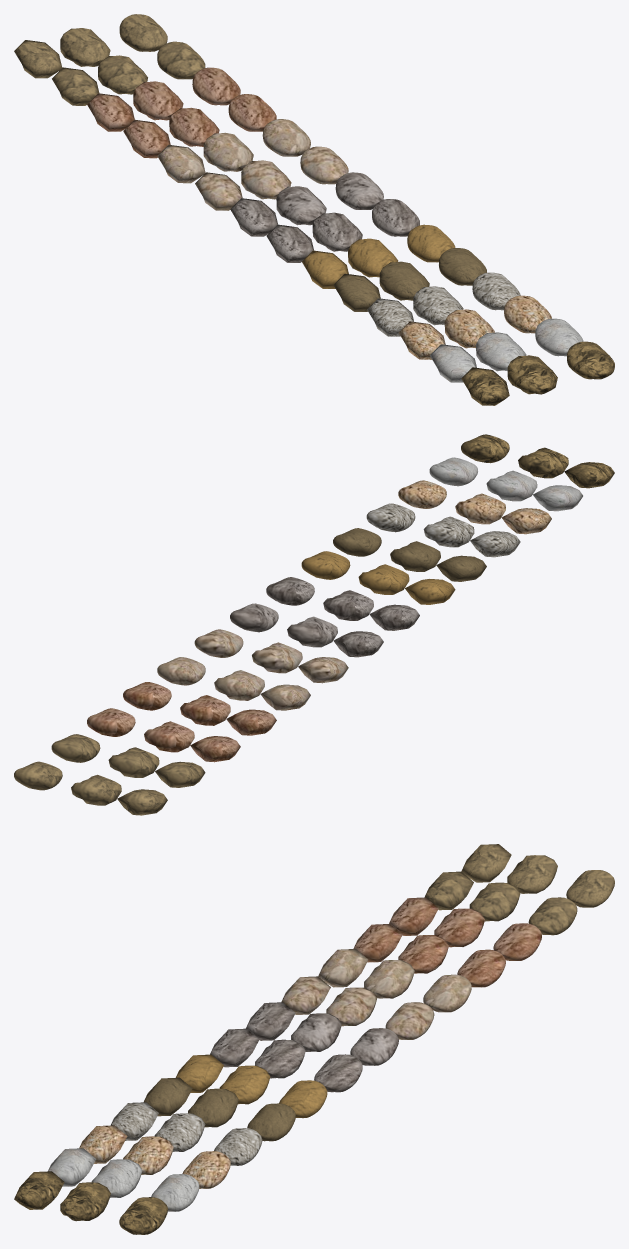
File: Rock_V1.fbx
3 views of the same model, one above another, from view 1: azimuth 30°, elevation 25°; view 2: azimuth 150°, elevation 25°; view 3: azimuth 330°, elevation 25° (orthographic).
Parts seen in each view (by area): view 1: Rock_01_Mid_13, Rock_01_Mid_8, Rock_01_Mid_12, Rock_01_Mid_6, Rock_01_Mid_10, Rock_01_Mid_5, Rock_01_Mid_7, Rock_01_Mid_11, Rock_01_Mid_9, Rock_01_High_13, Rock_01_High_12, Rock_01_High_8 (+30 smaller); view 2: Rock_01_Mid_2, Rock_01_Mid_7, Rock_01_Mid_6, Rock_01_Mid_13, Rock_01_Mid_10, Rock_01_Mid_14, Rock_01_Mid_1, Rock_01_Mid_12, Rock_01_Mid_8, Rock_01_Mid_5, Rock_01_Mid_3, Rock_01_Mid_4 (+30 smaller); view 3: Rock_01_Mid_13, Rock_01_Mid_12, Rock_01_Mid_8, Rock_01_Mid_6, Rock_01_Mid_10, Rock_01_Mid_11, Rock_01_Mid_5, Rock_01_Mid_7, Rock_01_High_13, Rock_01_High_8, Rock_01_High_12, Rock_01_Mid_9 (+30 smaller).
Boxes of the visible parts, x1=… form: Rock_01_Mid_13: x1=507, y1=355, x2=557, y2=394; Rock_01_Mid_8: x1=203, y1=132, x2=253, y2=171; Rock_01_Mid_12: x1=60, y1=28, x2=110, y2=66; Rock_01_Mid_6: x1=276, y1=186, x2=326, y2=225; Rock_01_Mid_10: x1=133, y1=81, x2=183, y2=120; Rock_01_Mid_5: x1=312, y1=212, x2=362, y2=251; Rock_01_Mid_7: x1=241, y1=160, x2=291, y2=199; Rock_01_Mid_11: x1=98, y1=55, x2=147, y2=94; Rock_01_Mid_9: x1=169, y1=107, x2=219, y2=146; Rock_01_High_13: x1=567, y1=341, x2=614, y2=379; Rock_01_High_12: x1=119, y1=14, x2=167, y2=51; Rock_01_High_8: x1=262, y1=119, x2=310, y2=156; Rock_01_Mid_2: x1=423, y1=516, x2=474, y2=547; Rock_01_Mid_7: x1=252, y1=642, x2=302, y2=673; Rock_01_Mid_6: x1=287, y1=616, x2=337, y2=647; Rock_01_Mid_13: x1=518, y1=447, x2=568, y2=478; Rock_01_Mid_10: x1=144, y1=721, x2=194, y2=752; Rock_01_Mid_14: x1=486, y1=470, x2=537, y2=501; Rock_01_Mid_1: x1=455, y1=493, x2=505, y2=524; Rock_01_Mid_12: x1=71, y1=774, x2=121, y2=805; Rock_01_Mid_8: x1=214, y1=670, x2=264, y2=700; Rock_01_Mid_5: x1=323, y1=590, x2=373, y2=620; Rock_01_Mid_3: x1=390, y1=541, x2=440, y2=571; Rock_01_Mid_4: x1=358, y1=564, x2=409, y2=594; Rock_01_Mid_13: x1=60, y1=1182, x2=110, y2=1221; Rock_01_Mid_12: x1=507, y1=855, x2=557, y2=893; Rock_01_Mid_8: x1=364, y1=960, x2=414, y2=998; Rock_01_Mid_6: x1=291, y1=1013, x2=341, y2=1051; Rock_01_Mid_10: x1=434, y1=908, x2=484, y2=947; Rock_01_Mid_11: x1=469, y1=882, x2=520, y2=921; Rock_01_Mid_5: x1=255, y1=1039, x2=305, y2=1078; Rock_01_Mid_7: x1=326, y1=987, x2=376, y2=1026; Rock_01_High_13: x1=119, y1=1197, x2=167, y2=1234; Rock_01_High_8: x1=423, y1=974, x2=471, y2=1012; Rock_01_High_12: x1=566, y1=870, x2=614, y2=907; Rock_01_Mid_9: x1=398, y1=935, x2=448, y2=973.
Bounding box in the file's own units: 0.0875 × 0.0152 × 0.5083.
